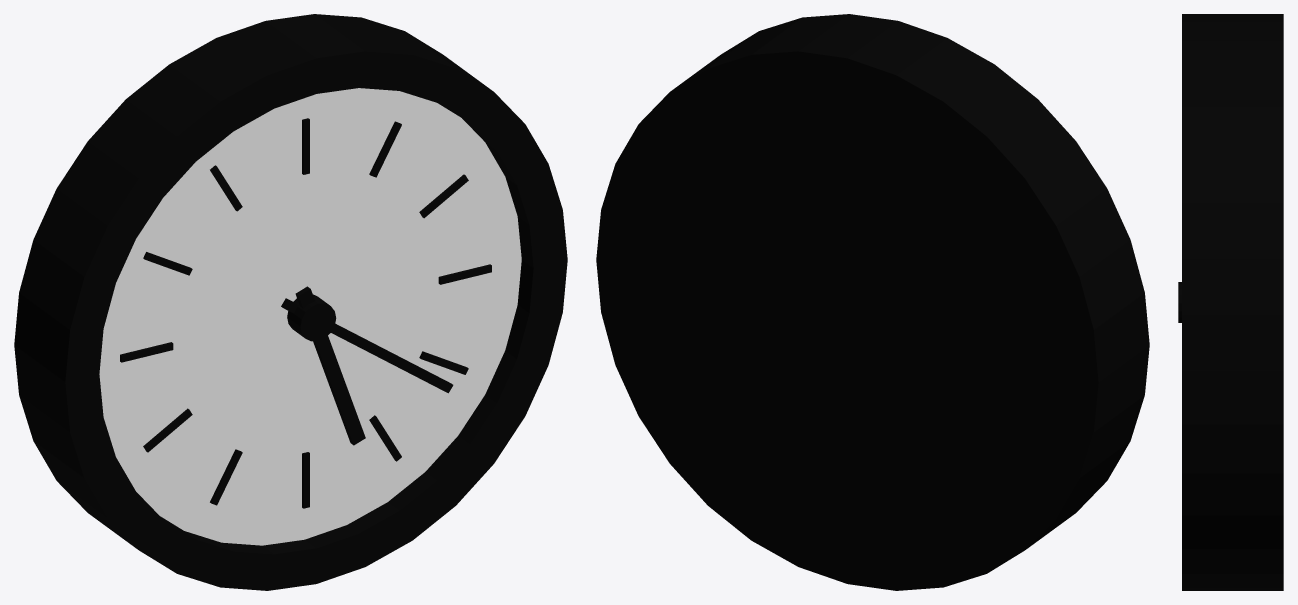
The model's file is LowPoly Clock.fbx.
3 views of the same model, side by side, from view 1: azimuth 30°, elevation 25°; view 2: azimuth 150°, elevation 25°; view 3: azimuth 270°, elevation 25° (orthographic).
Visible parts, largest first — view 1: Obj_Clock, Obj_Hand.001, Obj_Hand; view 2: Obj_Clock; view 3: Obj_Clock.
Part boxes in pixels (x1,y1,x2,y2): Obj_Clock: [14, 14, 567, 590]; Obj_Hand.001: [295, 286, 365, 445]; Obj_Hand: [281, 298, 453, 393]; Obj_Clock: [596, 14, 1149, 590]; Obj_Clock: [1178, 14, 1283, 590].
Bounding box in the file's own units: 31.86 × 31.86 × 5.81.
